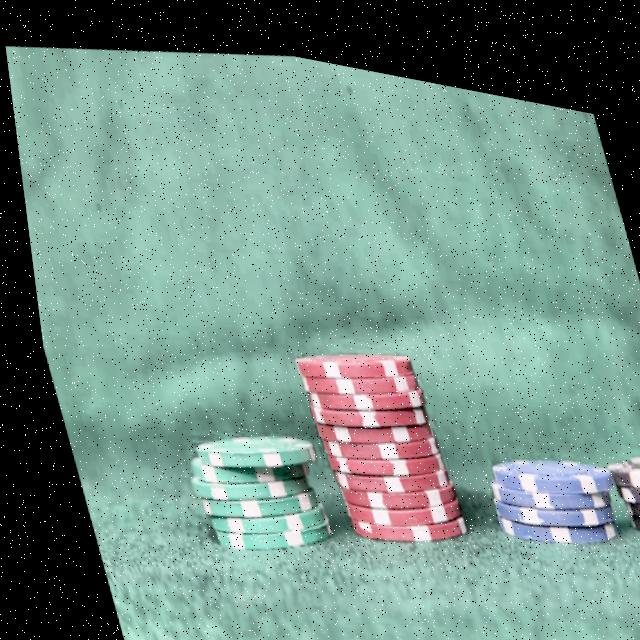Chip: (278, 307, 472, 562), (161, 388, 339, 574), (461, 409, 625, 553), (579, 400, 640, 534)
